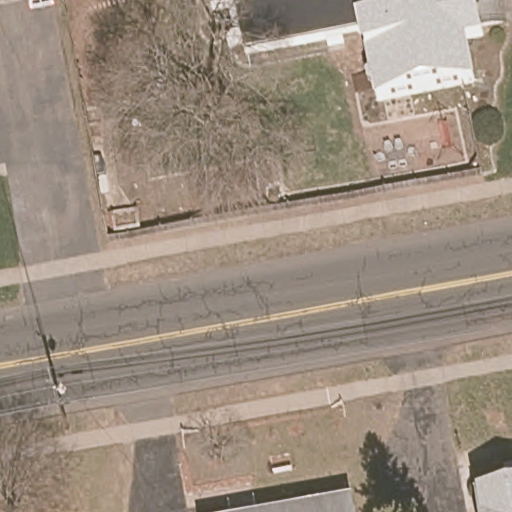DT: (45, 366, 68, 419)
